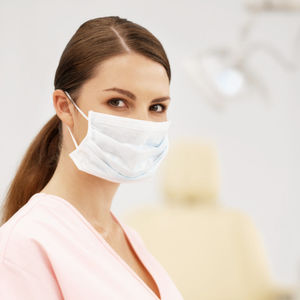mask: (69, 116, 169, 185)
